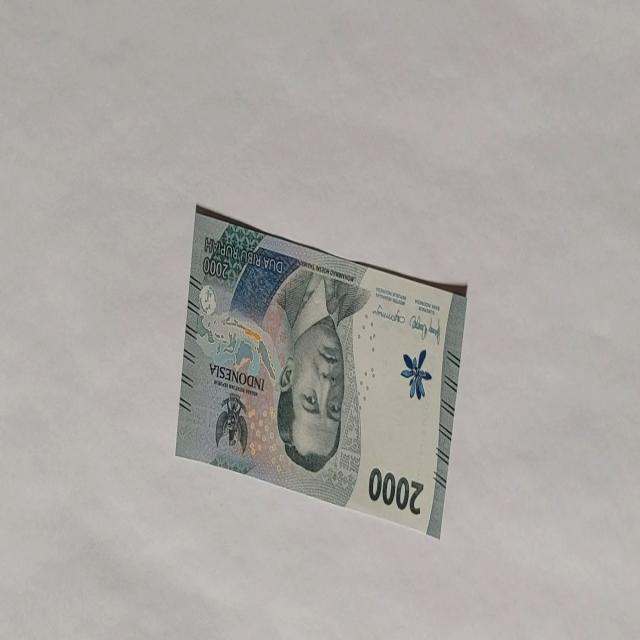dua ribu rupiah: (174, 203, 468, 540), (272, 266, 370, 476)
